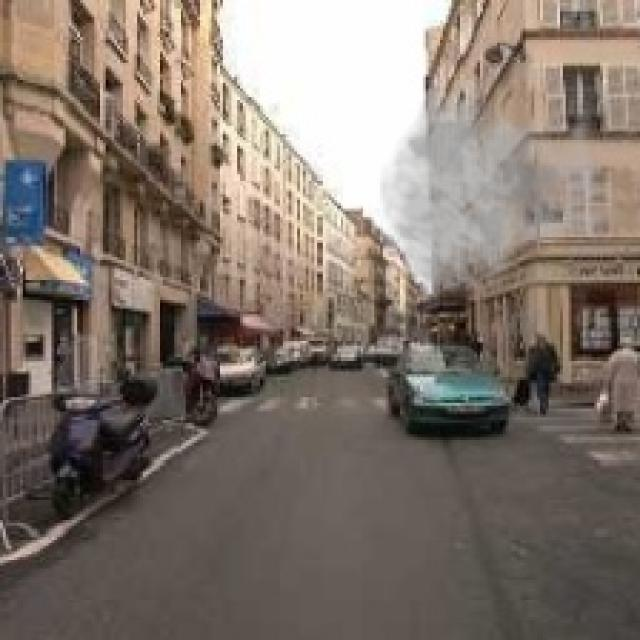smoke: (377, 71, 617, 306)
